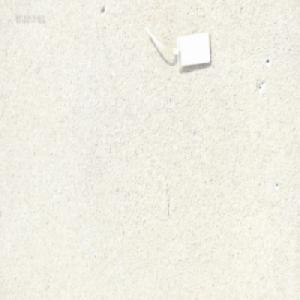LuggageTag: (140, 26, 213, 71)
